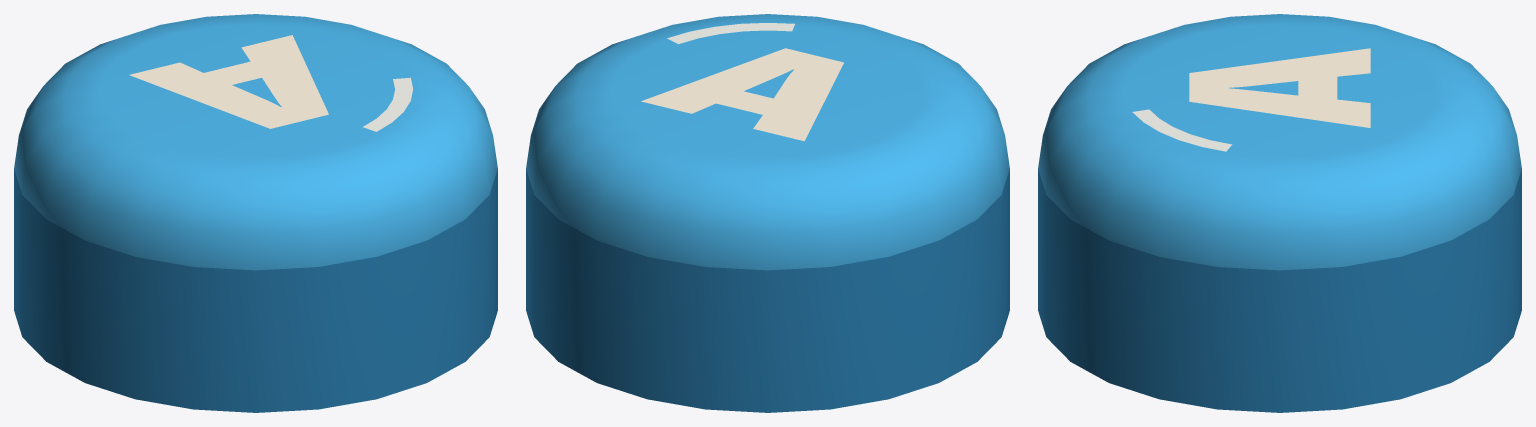
The model's file is BotonAuto.fbx.
3 renders of one model, left to right at view 1: azimuth 30°, elevation 25°; view 2: azimuth 150°, elevation 25°; view 3: azimuth 270°, elevation 25°, orthographic.
Parts seen in each view (by area): view 1: BotonAuto; view 2: BotonAuto; view 3: BotonAuto.
Part boxes in pixels (x1,y1,x2,y2): BotonAuto: [14, 14, 497, 412]; BotonAuto: [526, 14, 1009, 412]; BotonAuto: [1038, 14, 1521, 412].
Size of the model in its own units: 0.4 by 0.203 by 0.4.
1 material, 1 textured.
